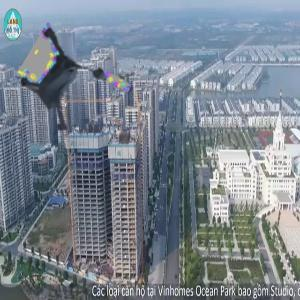drone: (13, 42, 126, 155)
